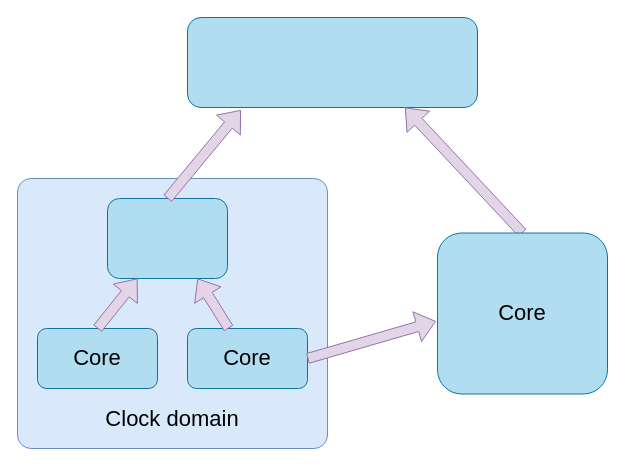
The diagram is 625 pixels wide and 466 high, and some of its shapes have lost their labels. The shapes that lost their labels are listed below. From the top down, each one's centre as x and y in pixels, then its label:
At point (332, 62): "Time engine".
At point (167, 238): "Clock engine".
